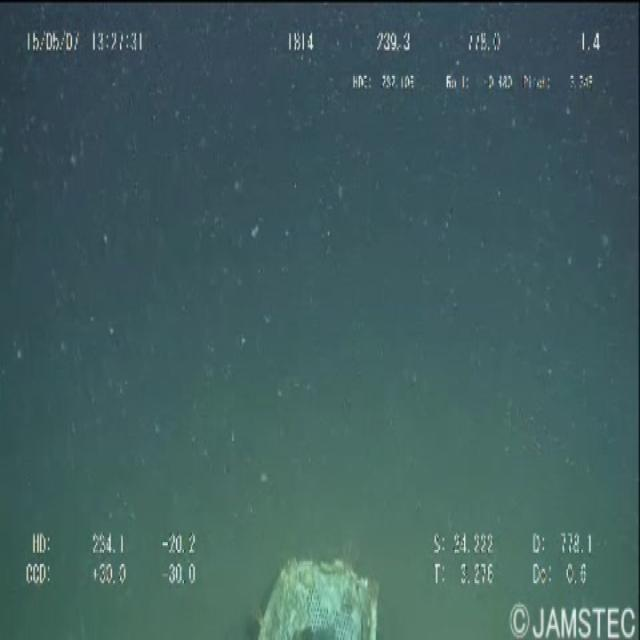Cutlery: (256, 532, 401, 637)
